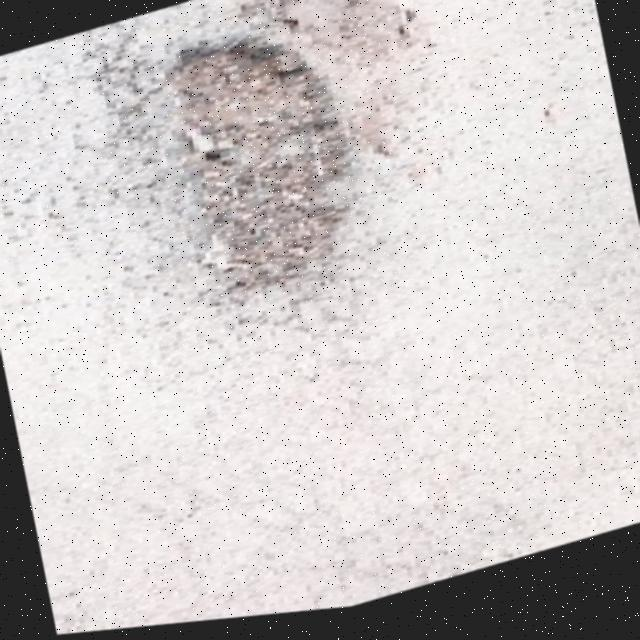Pothole: (118, 6, 394, 311)
